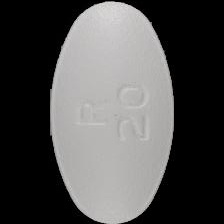0093-5105: (0, 0, 224, 224)
